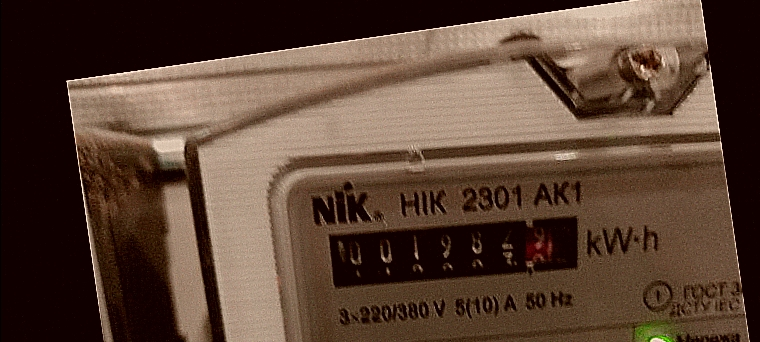0: (345, 236, 365, 267), (376, 235, 396, 266)
1: (407, 231, 423, 261)
2: (497, 220, 519, 251)
8: (467, 226, 487, 256)
9: (528, 221, 552, 252), (436, 229, 455, 260)
screen: (309, 184, 601, 318)
